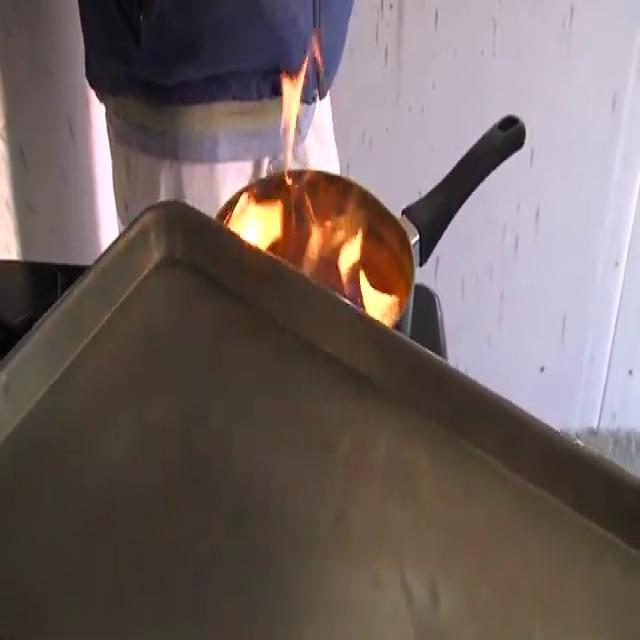fire: (209, 41, 427, 332)
